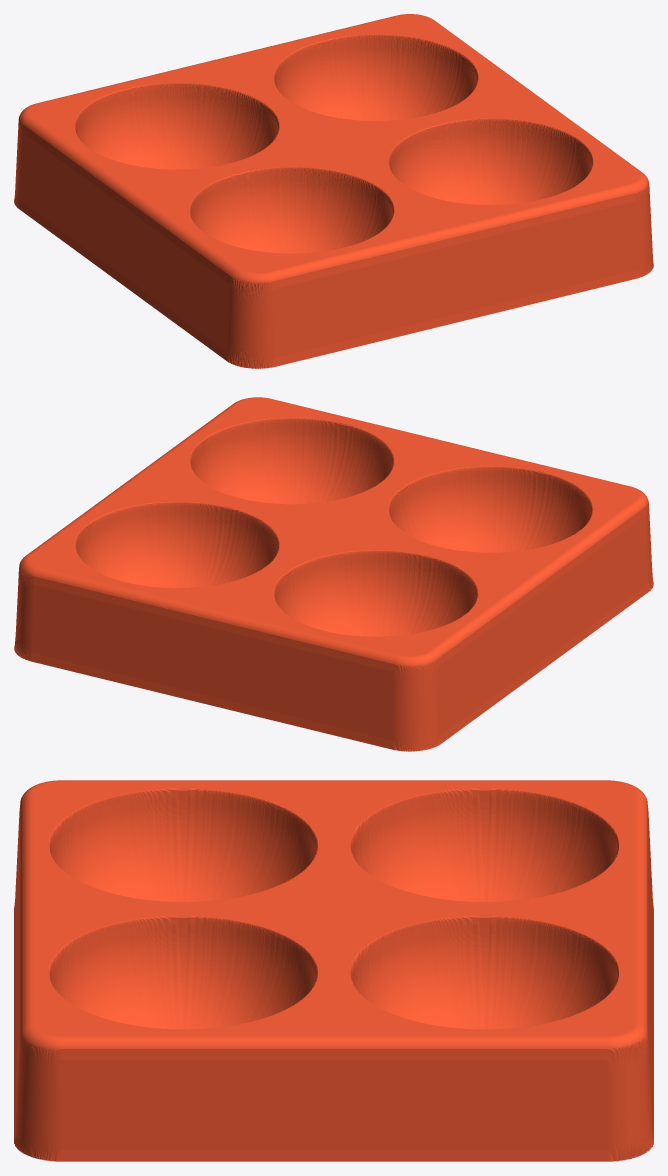
Rendered from mold.glb.
The picture shows the model from 3 angles, top to bottom: view 1: azimuth 30°, elevation 25°; view 2: azimuth 150°, elevation 25°; view 3: azimuth 270°, elevation 25°; orthographic projection. The views are drawn at different scales.
Parts seen in each view (by area): view 1: geometry_0; view 2: geometry_0; view 3: geometry_0.
Boxes of the visible parts, box(x1,y1,x2,y2) form: geometry_0: box(14, 14, 653, 368); geometry_0: box(14, 397, 653, 751); geometry_0: box(14, 780, 653, 1161).
Bounding box in the file's own units: 0.1225 × 0.0248 × 0.1225.
